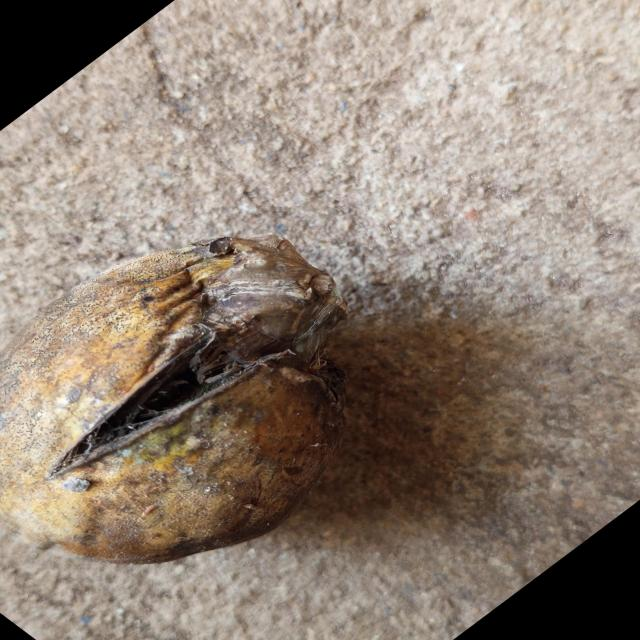damaged: (0, 234, 442, 570)
